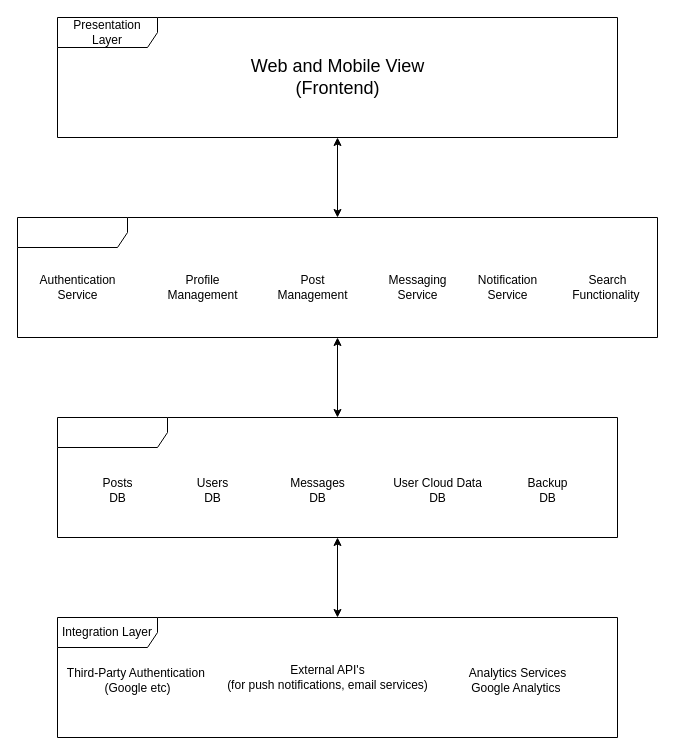
Some shapes in this 675 by 755 pixel diagram are drawn without their labels. The shapes that lost their labels are listed below. From the top down, each one's box as (x1, y1, x2, y2) in pixels, then its label:
(16, 216, 658, 338): Application Layer
(56, 416, 618, 538): Data Layer
